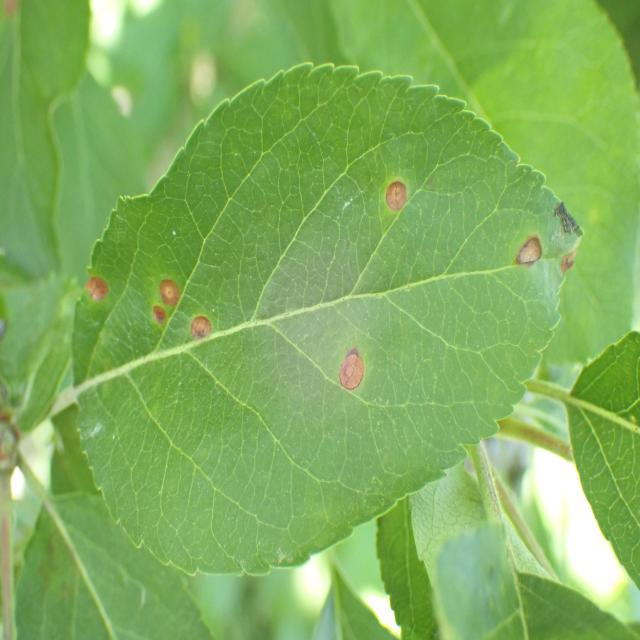Black Rot: (150, 266, 188, 333), (336, 334, 368, 410), (80, 261, 124, 314), (366, 179, 422, 215), (184, 300, 220, 353), (510, 226, 543, 276)
